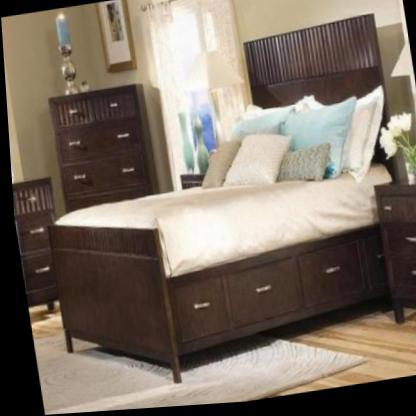Bed: (12, 10, 416, 399)
